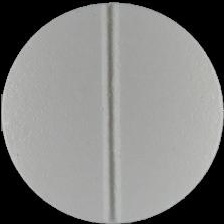10544-570: (0, 0, 224, 224)
